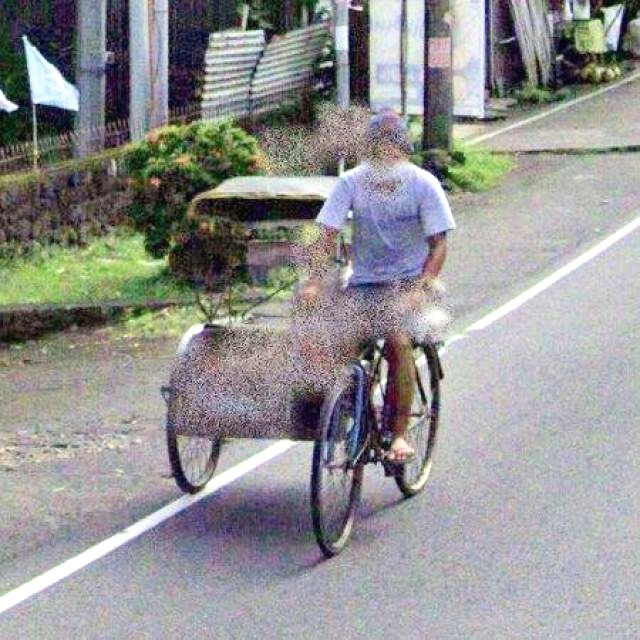bicycle: (140, 165, 482, 590)
